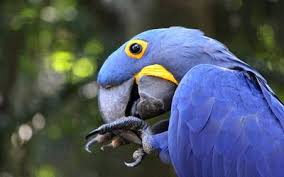guacamaya: (83, 18, 284, 167)
